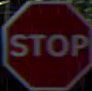Stop: (3, 1, 91, 90)
